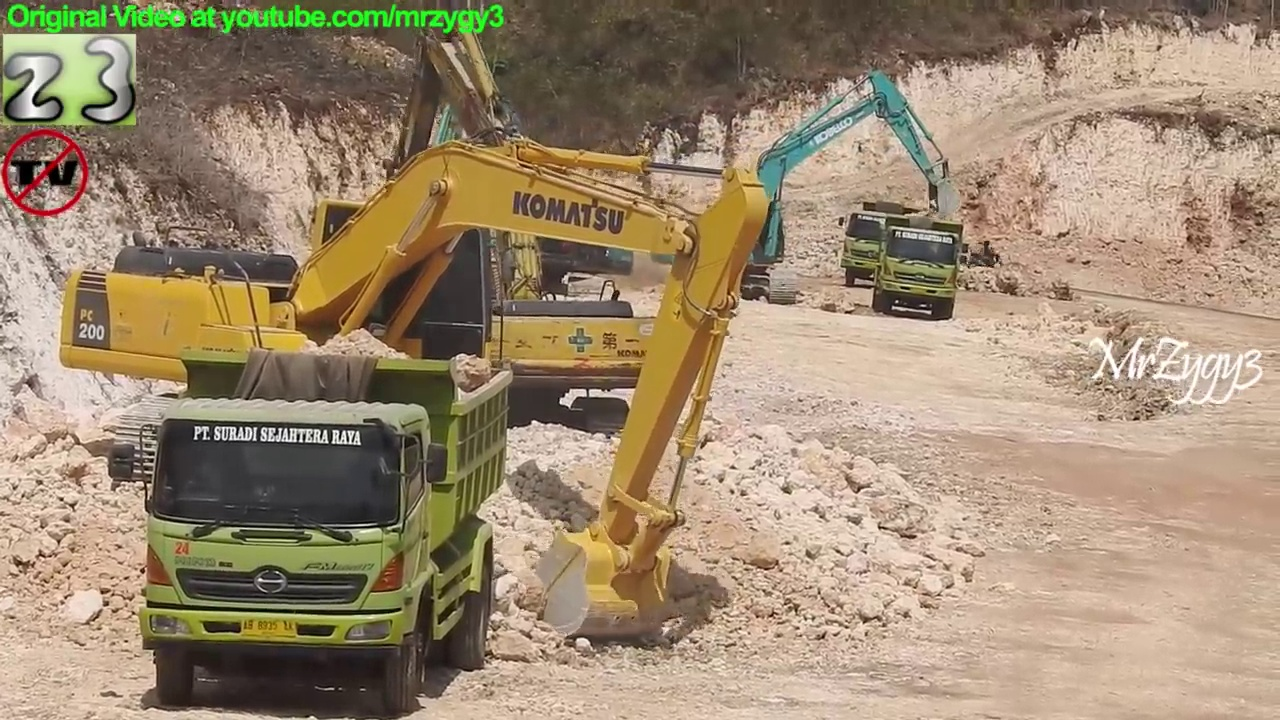excavator: (53, 123, 781, 652), (285, 1, 691, 452), (357, 1, 641, 293), (643, 62, 967, 316)
truck: (103, 340, 517, 719), (864, 205, 975, 324), (834, 196, 940, 290)
